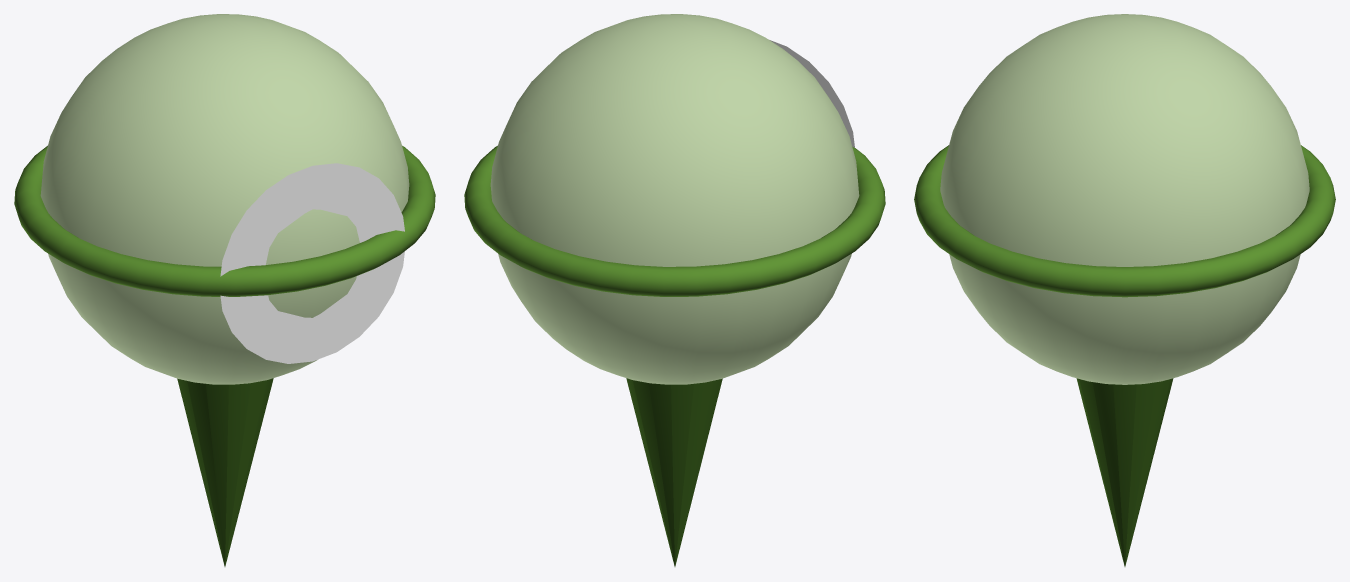
Rendered from mountain.glb.
3 renders of one model, left to right at view 1: azimuth 30°, elevation 25°; view 2: azimuth 150°, elevation 25°; view 3: azimuth 270°, elevation 25°, orthographic.
Visible parts, largest first — view 1: hazardPin; view 2: hazardPin; view 3: hazardPin.
Boxes of the visible parts, box(x1,y1,x2,y2) form: hazardPin: box(14, 14, 435, 566); hazardPin: box(464, 14, 885, 566); hazardPin: box(914, 14, 1335, 566).
Bounding box in the file's own units: 1.25 × 1.76 × 1.25.
